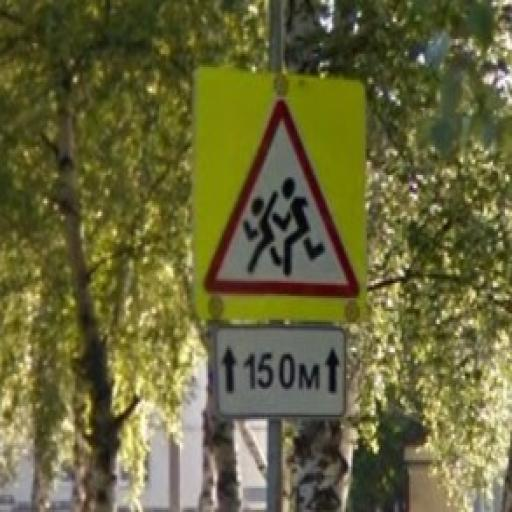traffic_sign: (206, 99, 365, 304)
